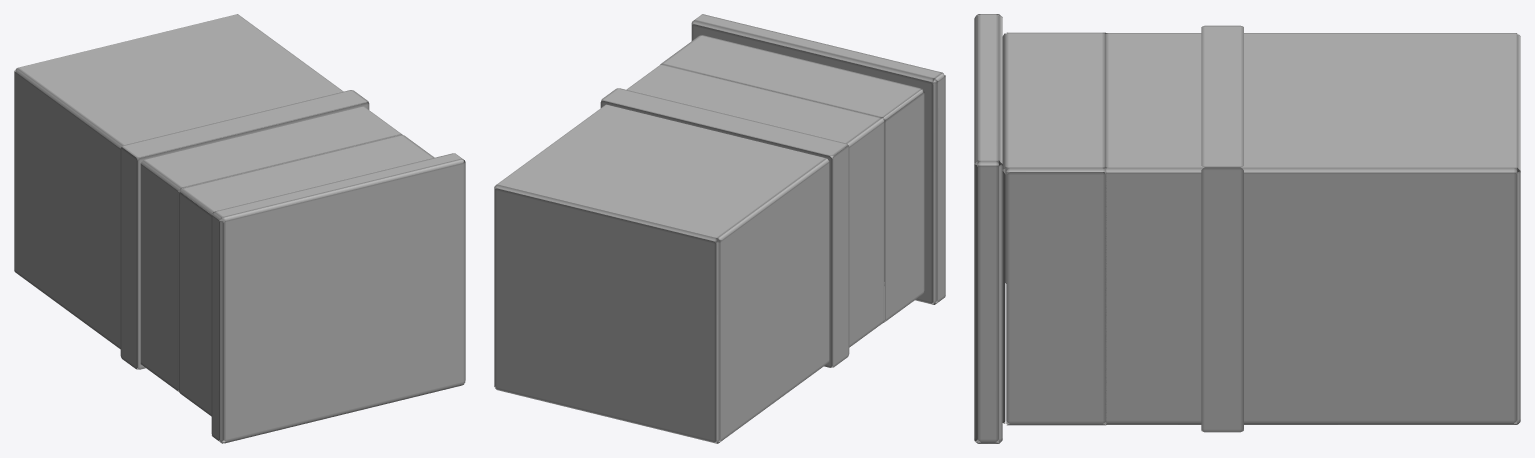
The model's file is pz_trashbin_seahorse.obj.
3 views of the same model, side by side, from view 1: azimuth 30°, elevation 25°; view 2: azimuth 150°, elevation 25°; view 3: azimuth 270°, elevation 25° (orthographic). The views are drawn at different scales.
Visible parts, largest first — view 1: pz_trashbin_seahorse_|_native_square_bin_cabinet, pz_trashbin_seahorse_|_native_projecting_cover, pz_trashbin_seahorse_|_upper_waste_door, pz_trashbin_seahorse_|_colored_middle_band; view 2: pz_trashbin_seahorse_|_native_square_bin_cabinet, pz_trashbin_seahorse_|_upper_waste_door, pz_trashbin_seahorse_|_native_projecting_cover, pz_trashbin_seahorse_|_colored_middle_band; view 3: pz_trashbin_seahorse_|_native_square_bin_cabinet, pz_trashbin_seahorse_|_upper_waste_door, pz_trashbin_seahorse_|_colored_middle_band, pz_trashbin_seahorse_|_native_projecting_cover.
Part boxes in pixels (x1,y1,x2,y2): pz_trashbin_seahorse_|_native_square_bin_cabinet: [14, 14, 402, 392]; pz_trashbin_seahorse_|_native_projecting_cover: [211, 153, 465, 443]; pz_trashbin_seahorse_|_upper_waste_door: [179, 135, 434, 416]; pz_trashbin_seahorse_|_colored_middle_band: [120, 90, 369, 369]; pz_trashbin_seahorse_|_native_square_bin_cabinet: [494, 64, 884, 443]; pz_trashbin_seahorse_|_upper_waste_door: [660, 34, 924, 322]; pz_trashbin_seahorse_|_native_projecting_cover: [691, 14, 945, 304]; pz_trashbin_seahorse_|_colored_middle_band: [600, 88, 849, 367]; pz_trashbin_seahorse_|_native_square_bin_cabinet: [1103, 33, 1520, 424]; pz_trashbin_seahorse_|_upper_waste_door: [1002, 32, 1106, 425]; pz_trashbin_seahorse_|_colored_middle_band: [1201, 25, 1243, 432]; pz_trashbin_seahorse_|_native_projecting_cover: [974, 14, 1002, 443].
Bounding box in the file's own units: 0.5 × 0.44 × 0.77.
Materials: 1 (1 with a texture image).
